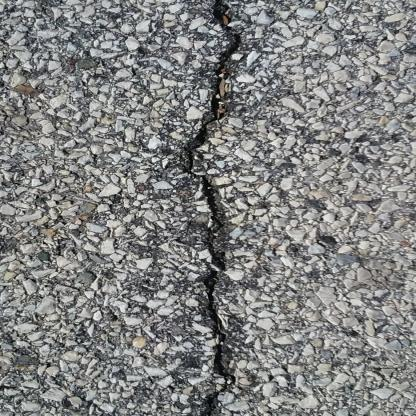Cracks: (153, 0, 260, 416)
